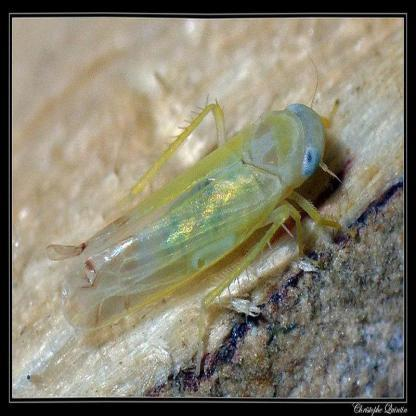green-leafhopper: (64, 100, 330, 332)
